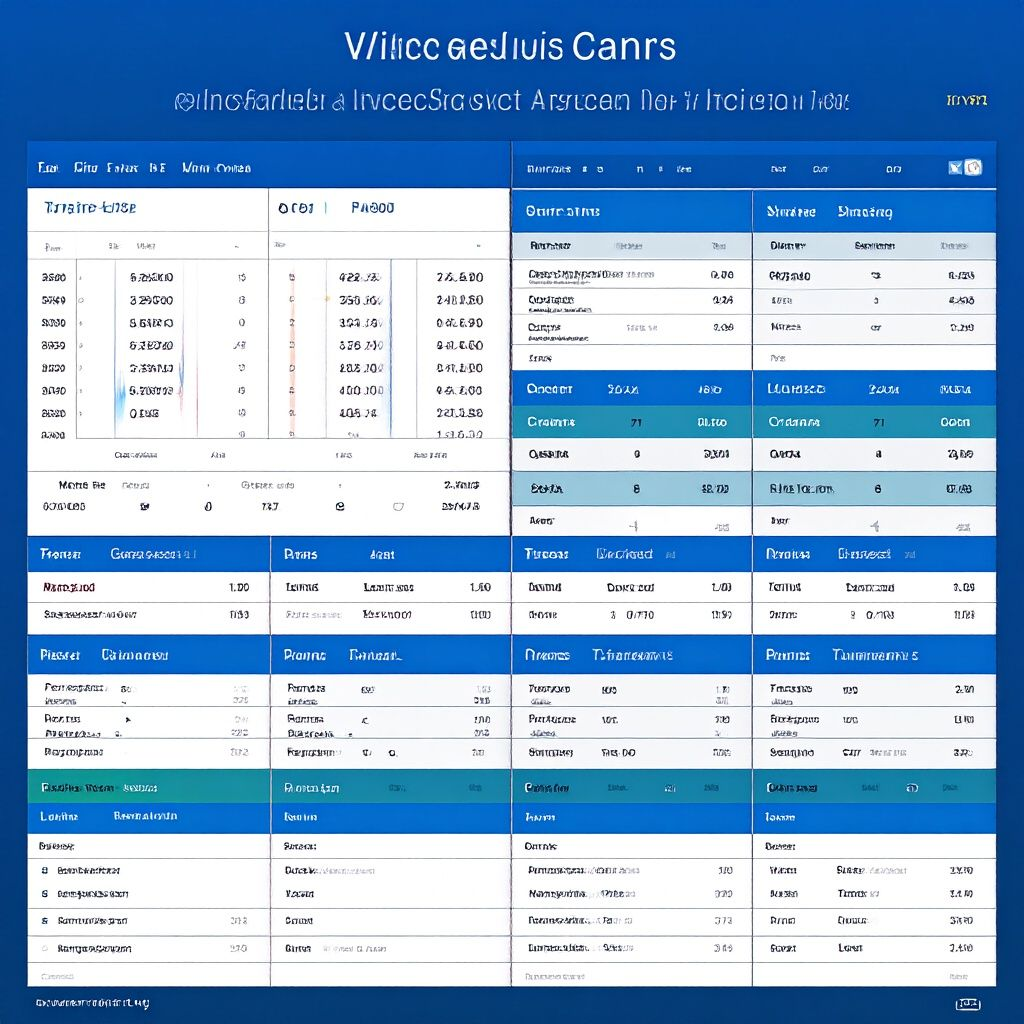

Layout of this report page (visuals, bound fields, positions):
{"tool":"powerbi","page":{"name":"Overview","canvas":[1920,1080],"ordinal":0},"visuals":[{"type":"actionButton","box":[0,280.4,192,96],"z":0},{"type":"actionButton","box":[0,664.4,192,96],"z":1000},{"type":"actionButton","box":[0,472.4,192,96],"z":2000},{"type":"actionButton","box":[0,856.4,192,96],"z":3000},{"type":"card","title":"Quotes","fields":{"Values":["SalesData.Total Quotes"]},"box":[256,96,176,144],"z":4000},{"type":"card","title":"Total Costs","fields":{"Values":["SalesData.Sum of Total Costs"]},"box":[672,96,176,144],"z":5000},{"type":"card","title":"Total Products","fields":{"Values":["SalesData.Total Products"]},"box":[464,96,176,144],"z":6000},{"type":"card","title":"Total Sales","fields":{"Values":["SalesData.Sum of Total Sales"]},"box":[880,96,176,144],"z":7000},{"type":"card","title":"Total Profit","fields":{"Values":["SalesData.Total Profit"]},"box":[1088,96,176,144],"z":8000},{"type":"donutChart","title":"GPM by Category","fields":{"Category":["SalesData.Product Category"],"Y":["SalesData.Total GPM %"]},"box":[1296,96,288,224],"z":12000},{"type":"donutChart","title":"Payment Status by Products","fields":{"Category":["SalesData.Payment Status"],"Y":["Sum(SalesData.No. of Products)"]},"box":[1600,96,288,224],"z":13000},{"type":"areaChart","fields":{"Category":["SalesData.Deal Closed Date.Variation.Date Hierarchy.Quarter"],"Y":["SalesData.Sum of Total Sales"]},"box":[256,256,592,384],"z":14000},{"type":"barChart","fields":{"Category":["SalesData.Company"],"Y":["Sum(SalesData.Profit)"]},"box":[880,256,384,384],"z":15000},{"type":"treemap","fields":{"Group":["SalesData.Company"],"Values":["SalesData.Sum of Total Sales"]},"box":[1296,336,592,304],"z":16000},{"type":"clusteredColumnChart","title":"Payments Due by Month","fields":{"Category":["SalesData.Payment Due Date.Variation.Date Hierarchy.Month"],"Y":["SalesData.Sum of Total Sales"]},"box":[256,656,576,400],"z":17000},{"type":"clusteredBarChart","title":"Cost vs Profit by Company","fields":{"Category":["SalesData.Company"],"Y":["SalesData.Sum of Total Costs","SalesData.Sum of Total Sales"]},"box":[848,656,544,400],"z":18000},{"type":"clusteredBarChart","title":"Sales & Profit by Category","fields":{"Category":["SalesData.Product Category"],"Y":["SalesData.Sum of Total Sales","SalesData.Total Profit"]},"box":[1408,656,480,400],"z":19000},{"type":"textbox","box":[304,16,864,64],"z":19001},{"type":"slicer","fields":{"Values":["SalesData.Company"]},"box":[1472,16,192,64],"z":19002},{"type":"slicer","fields":{"Values":["SalesData.Product Category"]},"box":[1696,16,192,64],"z":19003}]}

Visuals, with their boxes on the page's 1920x1080 design canvas (x1, y1, x2, y2). These are canvas units, not pixel positions in the 1024x1024 screenshot, which may show the page scaled, cropped or inside an application window:
actionButton: [0, 280, 192, 376]
actionButton: [0, 664, 192, 760]
actionButton: [0, 472, 192, 568]
actionButton: [0, 856, 192, 952]
"Quotes" card: [256, 96, 432, 240]
"Total Costs" card: [672, 96, 848, 240]
"Total Products" card: [464, 96, 640, 240]
"Total Sales" card: [880, 96, 1056, 240]
"Total Profit" card: [1088, 96, 1264, 240]
"GPM by Category" donutChart: [1296, 96, 1584, 320]
"Payment Status by Products" donutChart: [1600, 96, 1888, 320]
areaChart - SalesData.Deal Closed Date.Variation.Date Hierarchy.Quarter x SalesData.Sum of Total Sales: [256, 256, 848, 640]
barChart - SalesData.Company x Sum(SalesData.Profit): [880, 256, 1264, 640]
treemap - SalesData.Company x SalesData.Sum of Total Sales: [1296, 336, 1888, 640]
"Payments Due by Month" clusteredColumnChart: [256, 656, 832, 1056]
"Cost vs Profit by Company" clusteredBarChart: [848, 656, 1392, 1056]
"Sales & Profit by Category" clusteredBarChart: [1408, 656, 1888, 1056]
textbox: [304, 16, 1168, 80]
slicer - SalesData.Company: [1472, 16, 1664, 80]
slicer - SalesData.Product Category: [1696, 16, 1888, 80]
